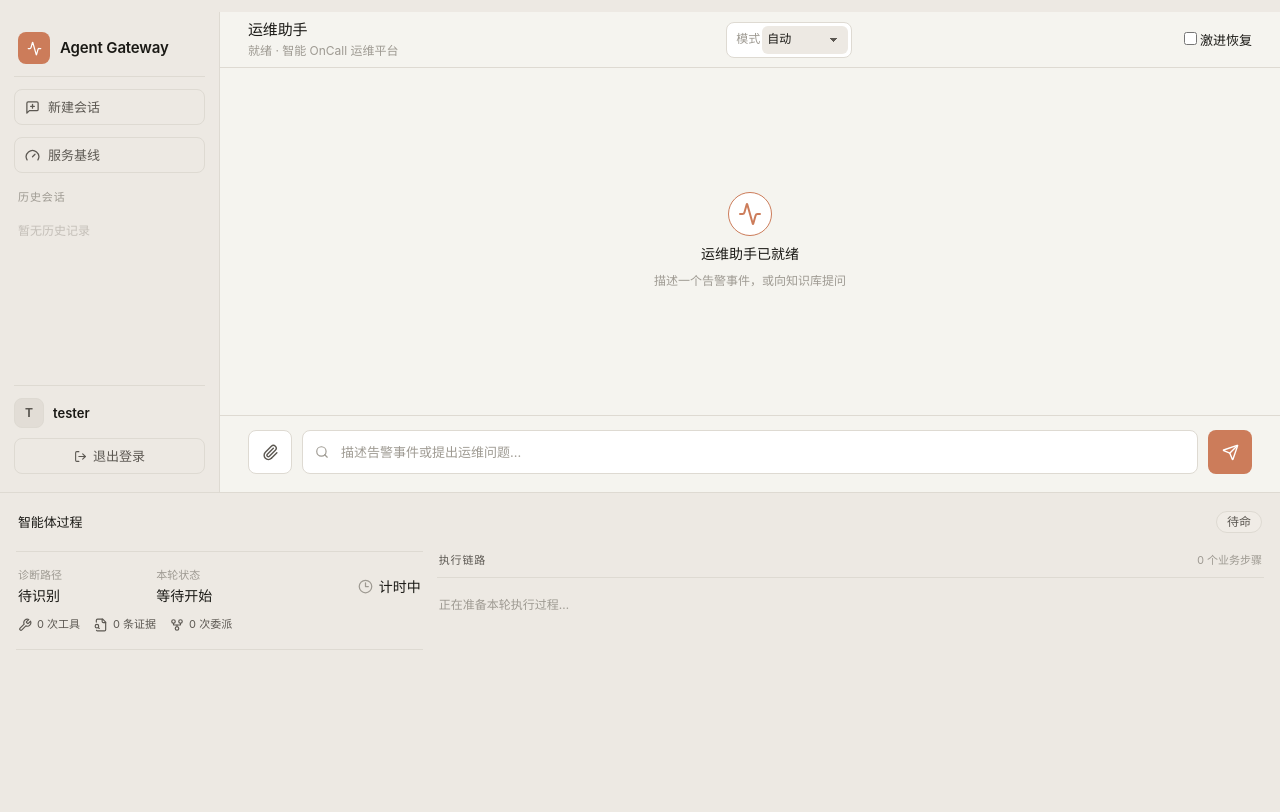
Scenario: App › sends a message and renders realtime agent events
Expected: the field named "消息" is shown, [302,430,1198,474]
Select "自动" in the dropdown labelled "模式": (805, 40) [762,26,848,54]
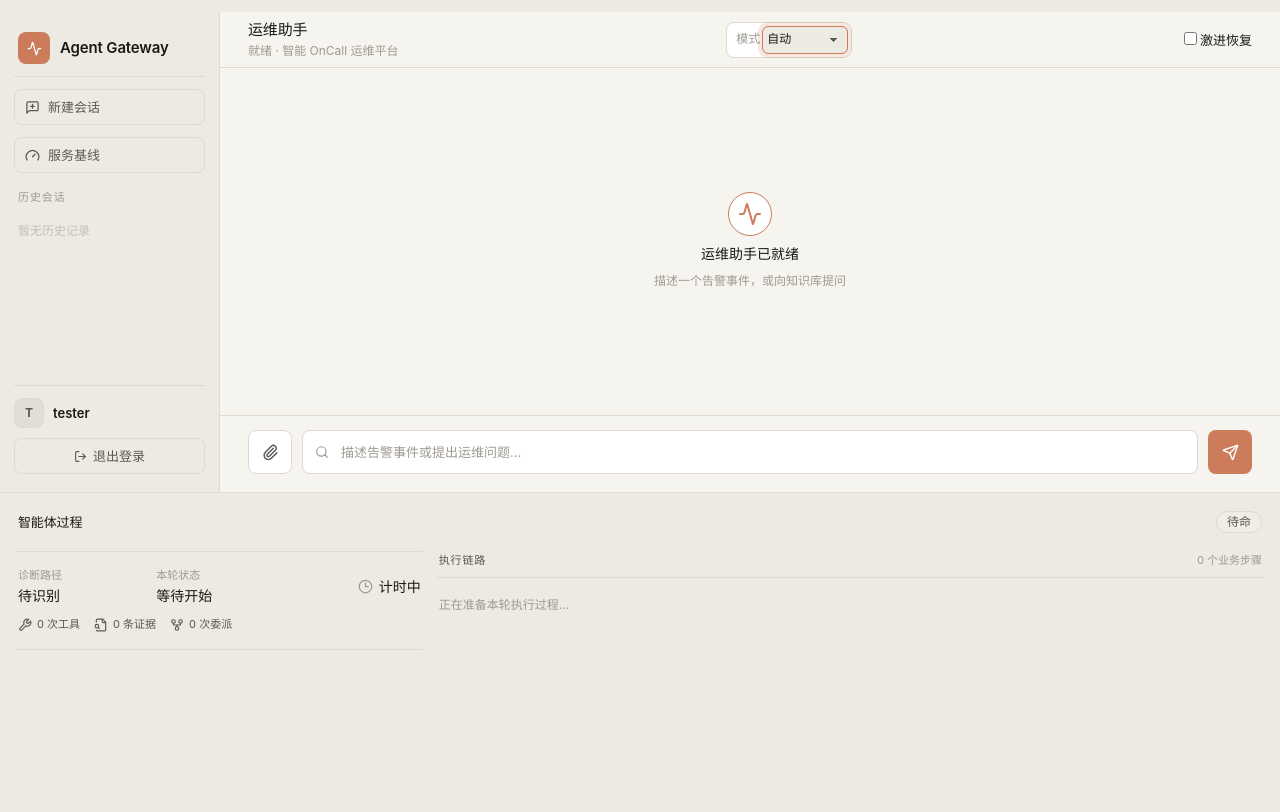
In the field named "消息": (750, 452) [302,430,1198,474], type "checkout-api slow"
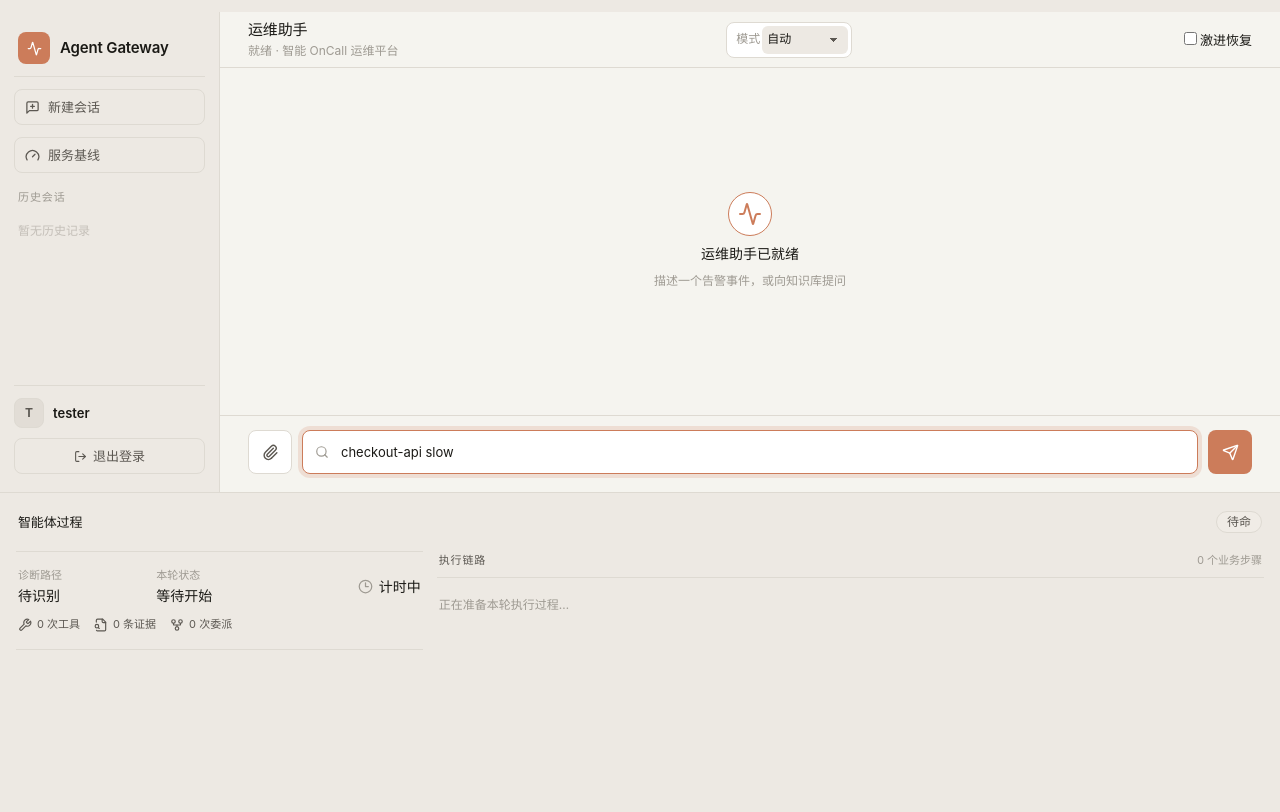
Click the button named "发送": click(1230, 452) [1208,430,1252,474]
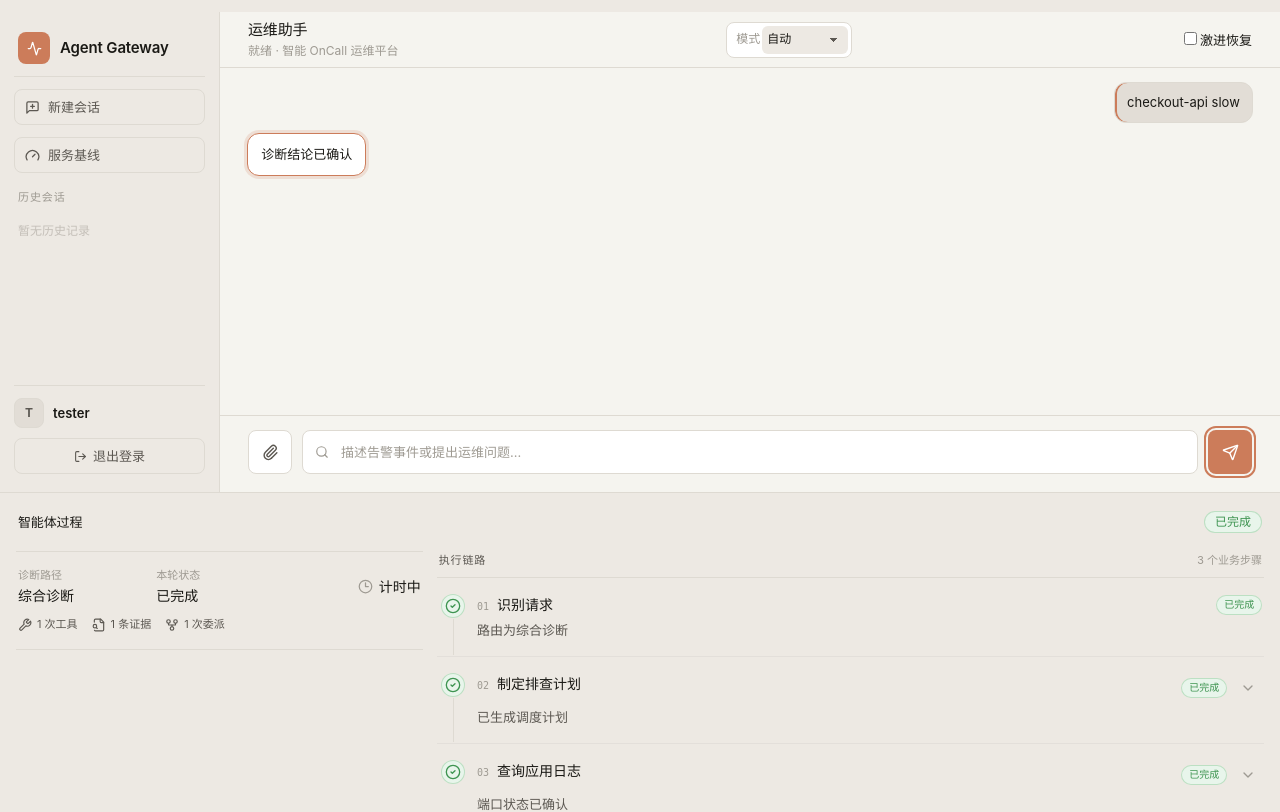
Expected: the heading "智能体过程" is shown, [18,513,82,531]
Expected: the element with test id "process-chain" is shown, [437,551,1264,811]
Click the button named "查看制定排查计划详情": click(1248, 688) [1234,674,1262,702]
(page scrolled)
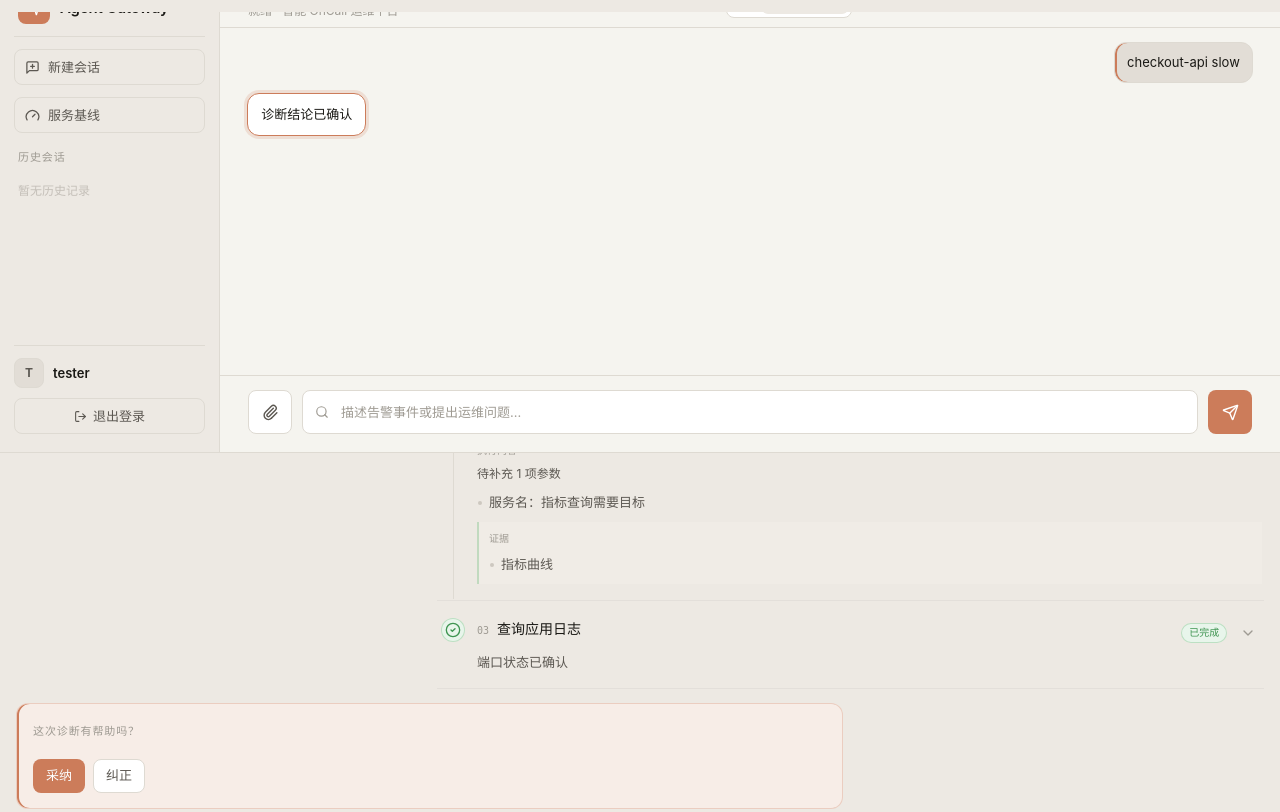
Click the button named "查看查询应用日志详情": click(1248, 633) [1234,619,1262,647]
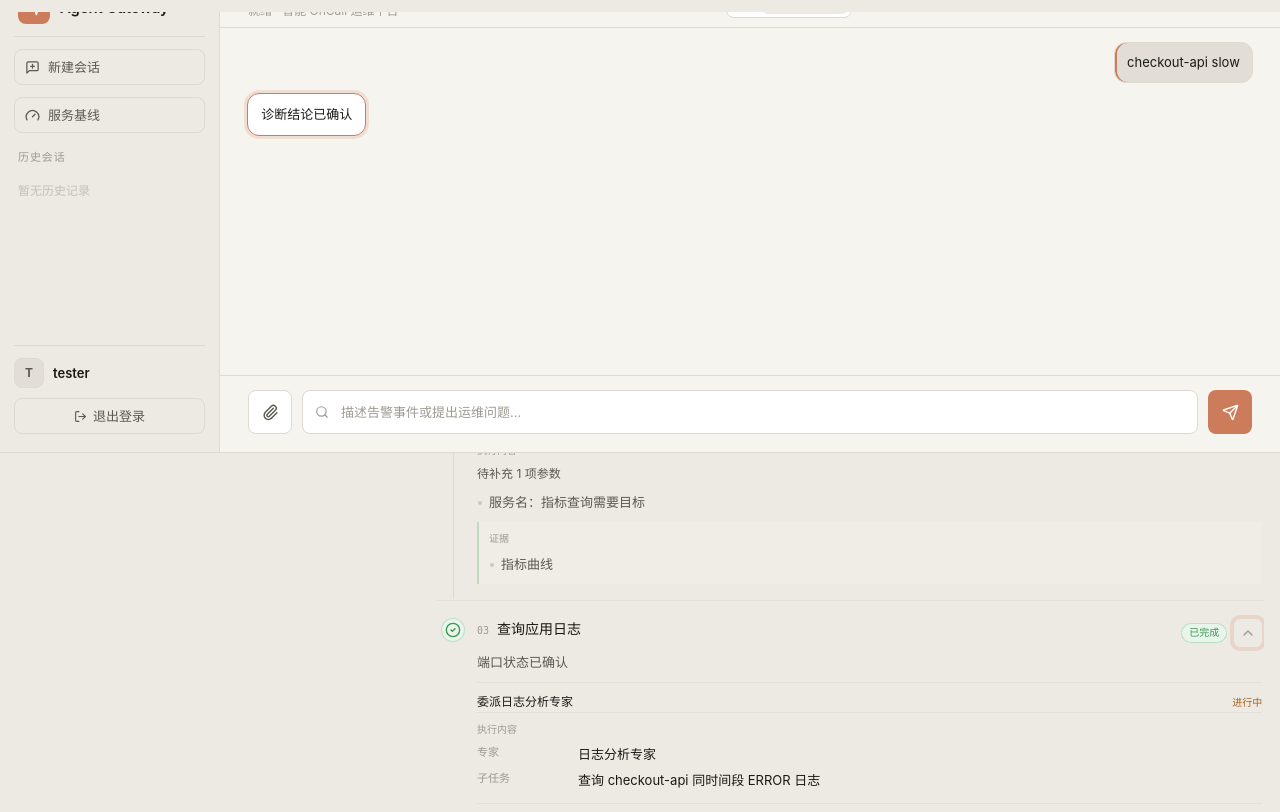
Now the list item "服务名：指标查询需要目标" is shown, box [489,494,645,510]
Now the text "委派日志分析专家" is shown, box [477,693,573,711]
Now the text "查询 checkout-api 同时间段 ERROR 日志" is shown, box [578,772,820,788]
